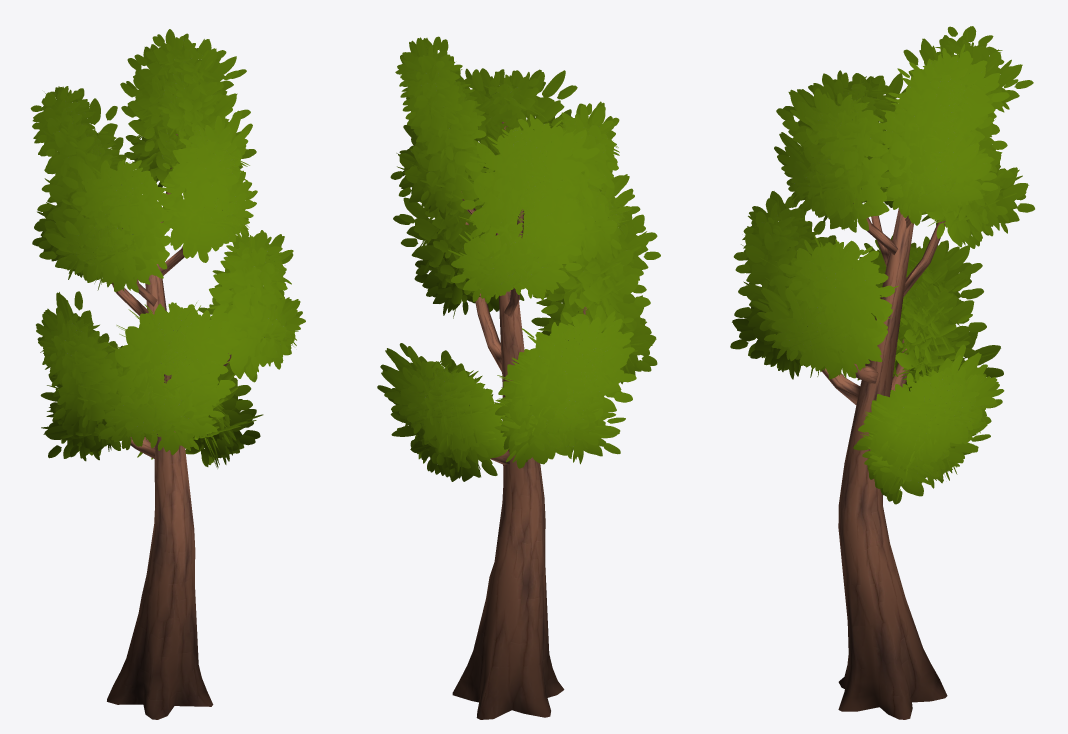
Rendered from commontree_3.glb.
3 views of the same model, side by side, from view 1: azimuth 30°, elevation 25°; view 2: azimuth 150°, elevation 25°; view 3: azimuth 270°, elevation 25° (orthographic). The views are drawn at different scales.
Visible parts, largest first — view 1: CommonTree_3; view 2: CommonTree_3; view 3: CommonTree_3.
Part boxes in pixels (x1,y1,x2,y2): CommonTree_3: (30, 29, 305, 719); CommonTree_3: (377, 36, 660, 719); CommonTree_3: (730, 26, 1034, 719).
Bounding box in the file's own units: 4.06 × 9.43 × 4.24.
Materials: 2 (2 with a texture image).
